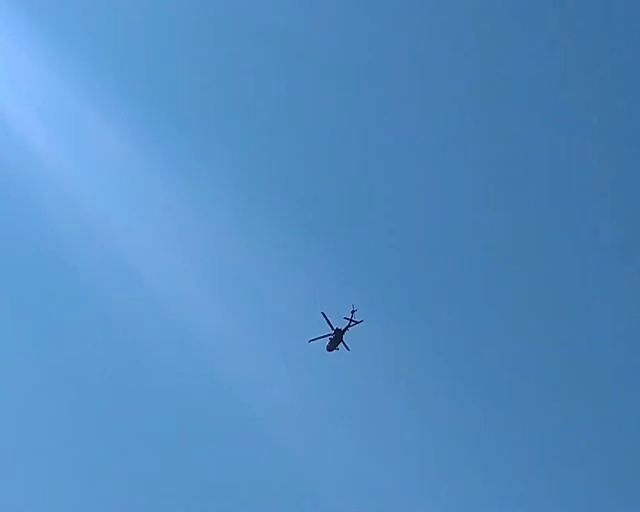HELICOPTER: (307, 302, 364, 352)
